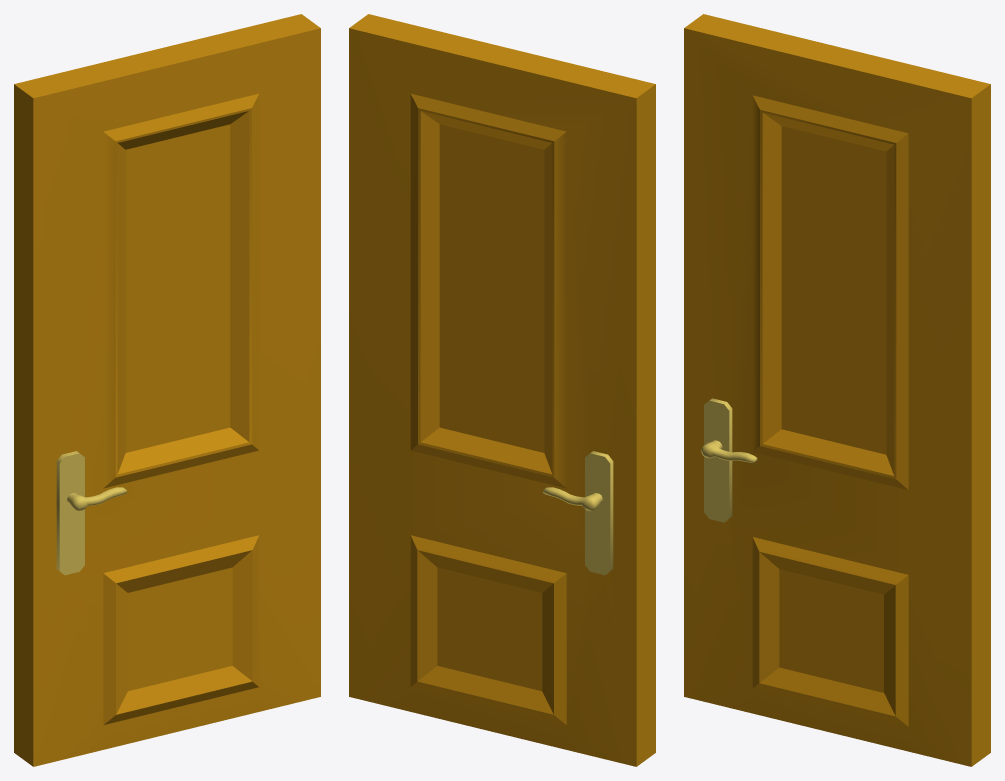
File: prop_casa_puerta.fbx
The picture shows the model from 3 angles, left to right: view 1: azimuth 30°, elevation 25°; view 2: azimuth 150°, elevation 25°; view 3: azimuth 330°, elevation 25°; orthographic projection.
Visible parts, largest first — view 1: prop_casa_puerta; view 2: prop_casa_puerta; view 3: prop_casa_puerta.
Part boxes in pixels (x1,y1,x2,y2): prop_casa_puerta: (14,14,320,766); prop_casa_puerta: (349,14,655,766); prop_casa_puerta: (684,14,990,766).
Bounding box in the file's own units: 135 × 300 × 37.34.
